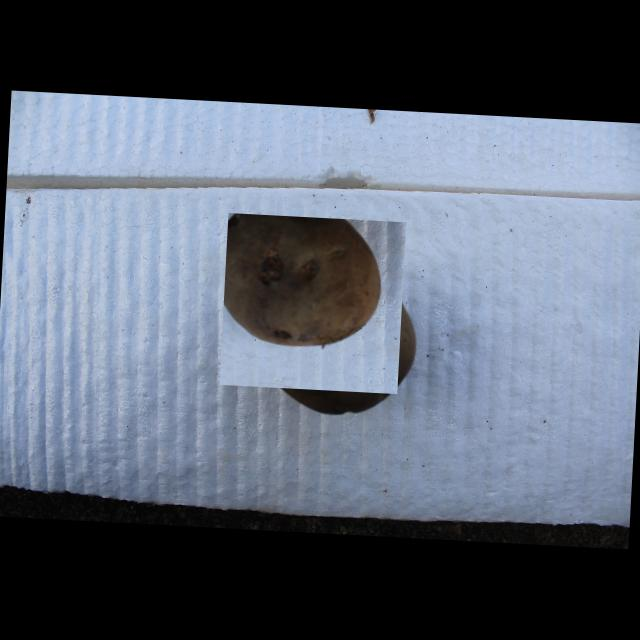Diseased-fungal potato: (220, 213, 406, 394)
